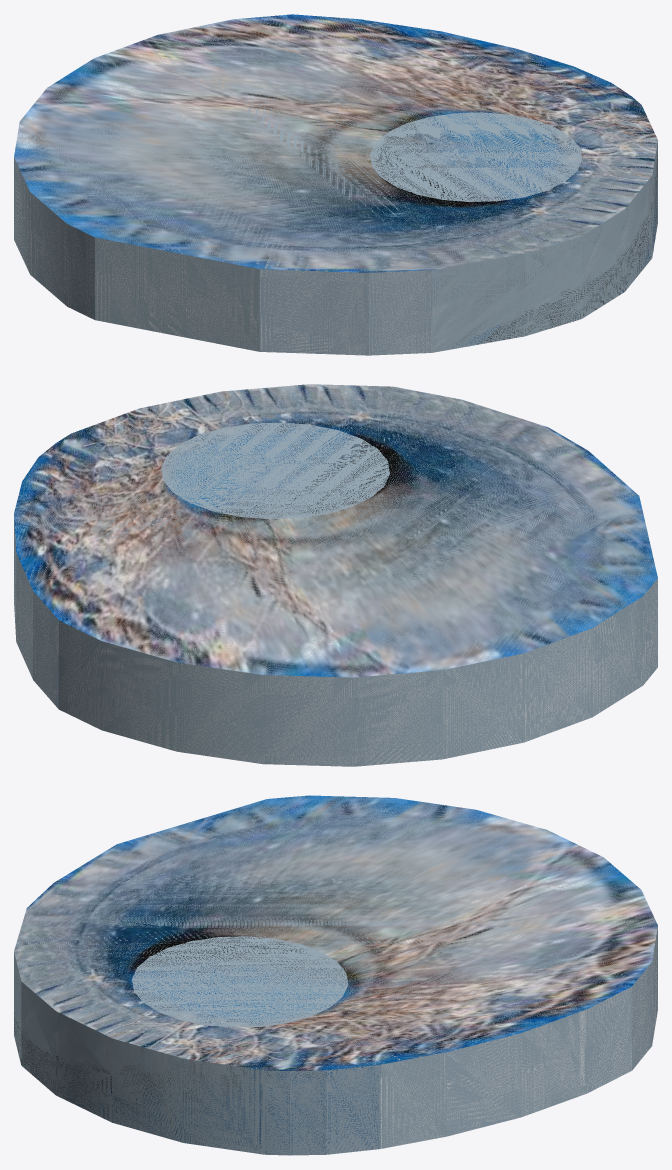
File: Floating Truck Tire.fbx
The picture shows the model from 3 angles, top to bottom: view 1: azimuth 30°, elevation 25°; view 2: azimuth 150°, elevation 25°; view 3: azimuth 270°, elevation 25°; orthographic projection. The views are drawn at different scales.
Parts seen in each view (by area): view 1: Model; view 2: Model; view 3: Model.
Boxes of the visible parts, <box> form: Model: <box>14,14,657,355</box>; Model: <box>14,384,657,766</box>; Model: <box>14,795,657,1155</box>.
Size of the model in its own units: 442 by 63.06 by 436.
